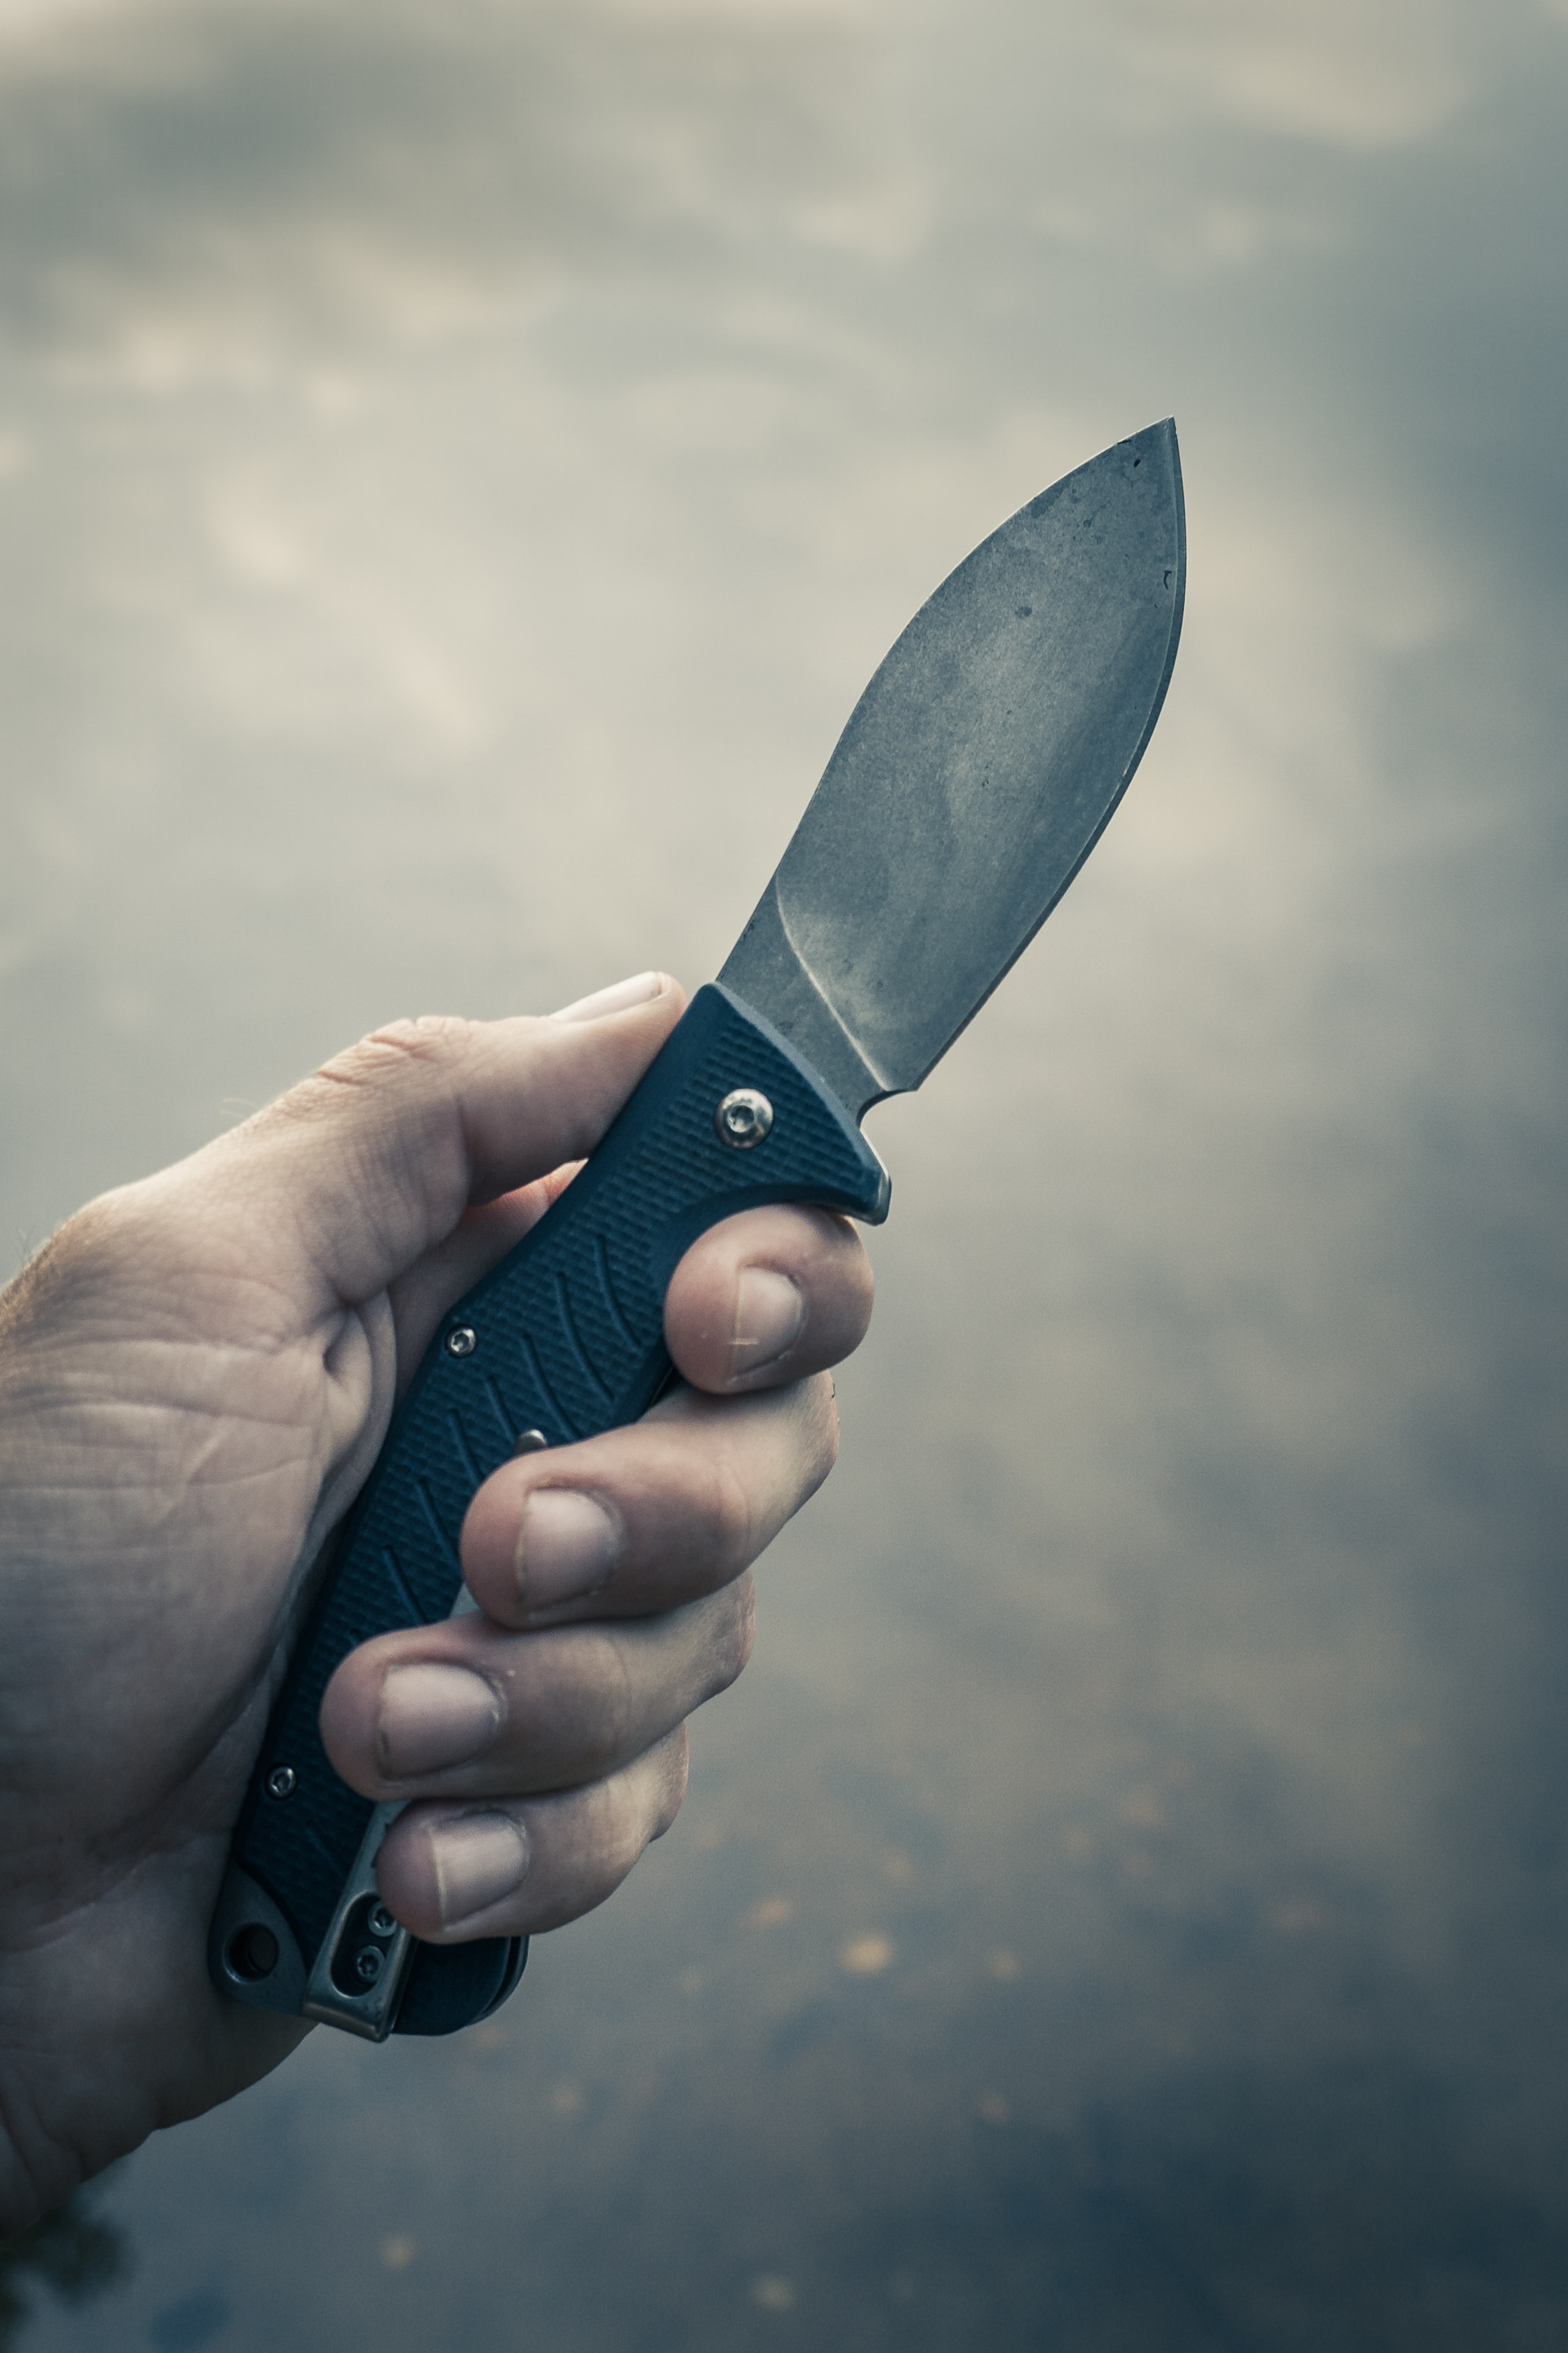knife: (219, 422, 1181, 2038)
